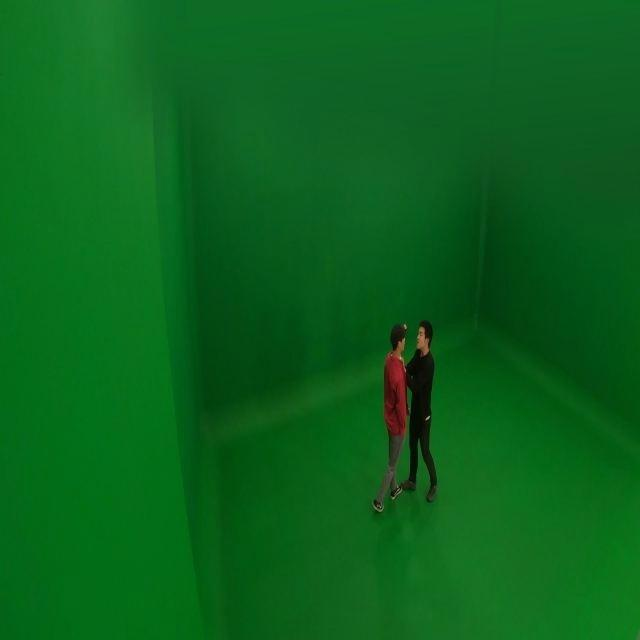fight: (369, 319, 447, 519)
